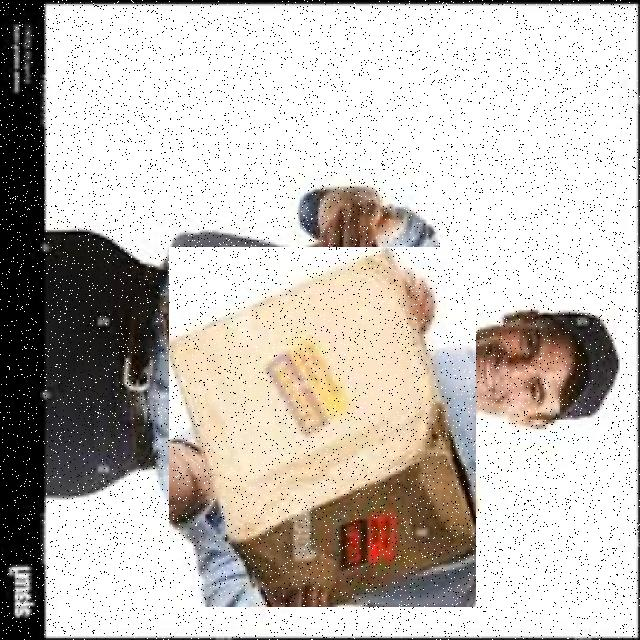normal: (168, 246, 475, 606)
